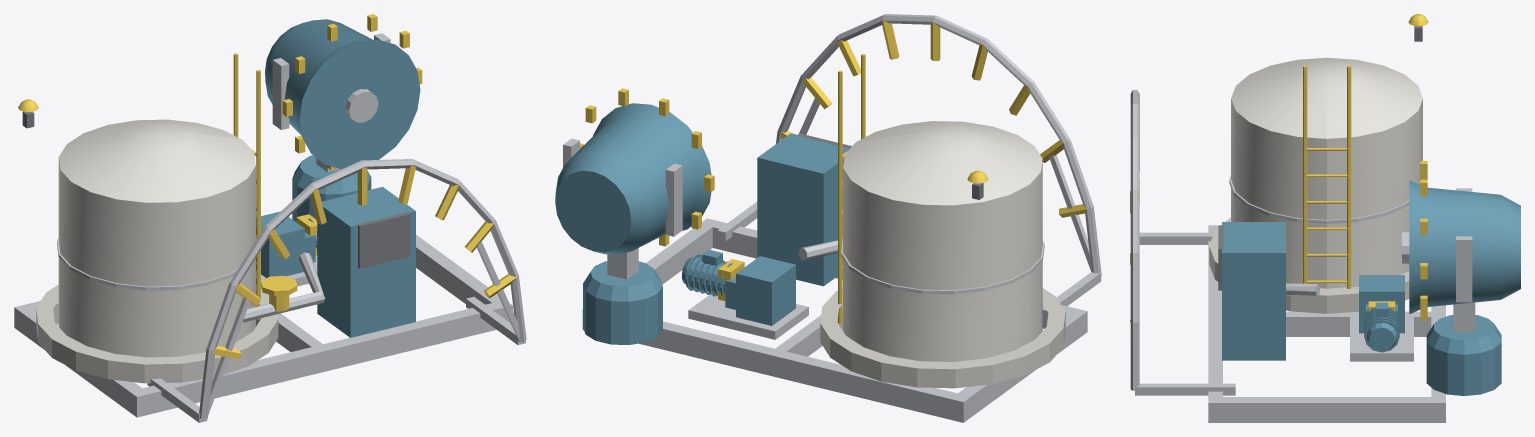
The model's file is ore-processing-and-haulage-plant-dust-suppression-unit-1fe1f188.glb.
The picture shows the model from 3 angles, left to right: view 1: azimuth 30°, elevation 25°; view 2: azimuth 150°, elevation 25°; view 3: azimuth 270°, elevation 25°; orthographic projection. The views are drawn at different scales.
Parts seen in each view (by area): view 1: dust-suppression-unit; view 2: dust-suppression-unit; view 3: dust-suppression-unit.
Boxes of the visible parts, x1,y1,x2,y2 form: dust-suppression-unit: (14,14,526,422); dust-suppression-unit: (555,14,1101,422); dust-suppression-unit: (1130,14,1520,422).
Bounding box in the file's own units: 5.12 × 3.14 × 4.28.
